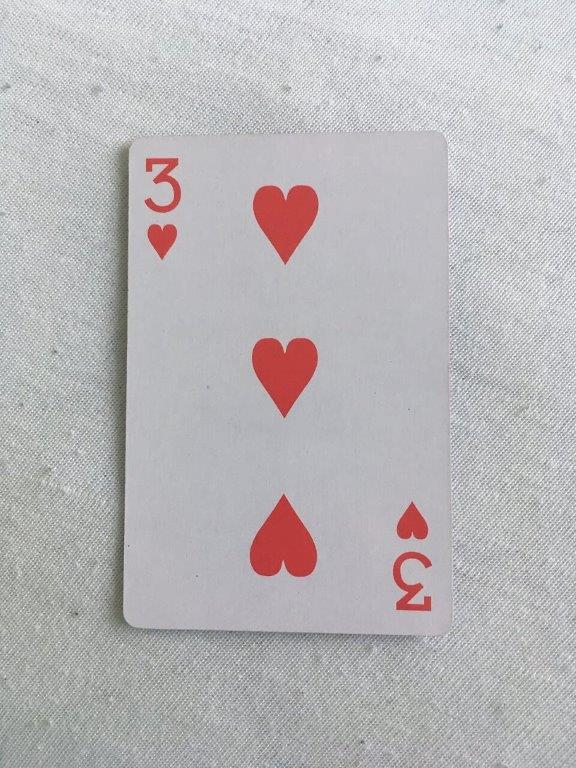3H: (119, 128, 457, 640)
